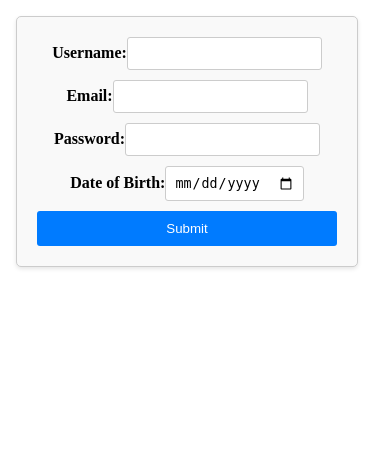
Test: Registration form validation › should display validation errors if submitted empty field
This screenshot has width=375, height=449.
Click the button with test id "submit". click: (187, 229)
box: [37, 211, 337, 246]
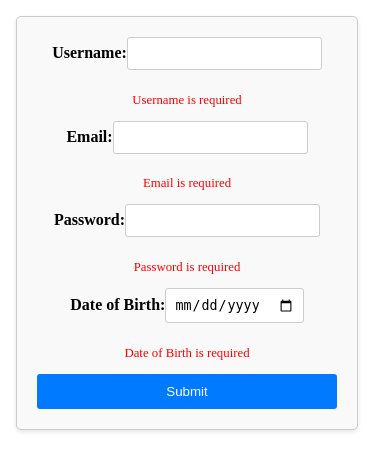
Expected: the text "Username is required" is shown, [132, 93, 242, 107]
Expected: the text with class "error" reads "Username is required", [132, 93, 241, 107]
Expected: the text with class "error" reads "Email is required", [143, 176, 231, 190]
